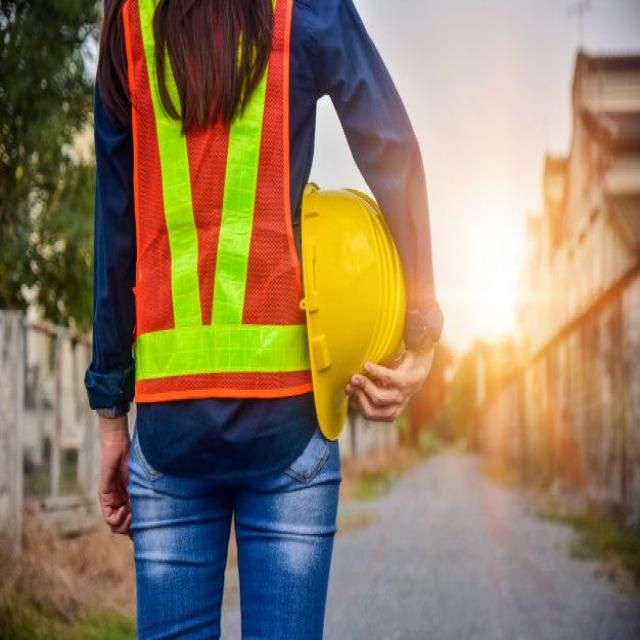helmet: (284, 166, 421, 444)
